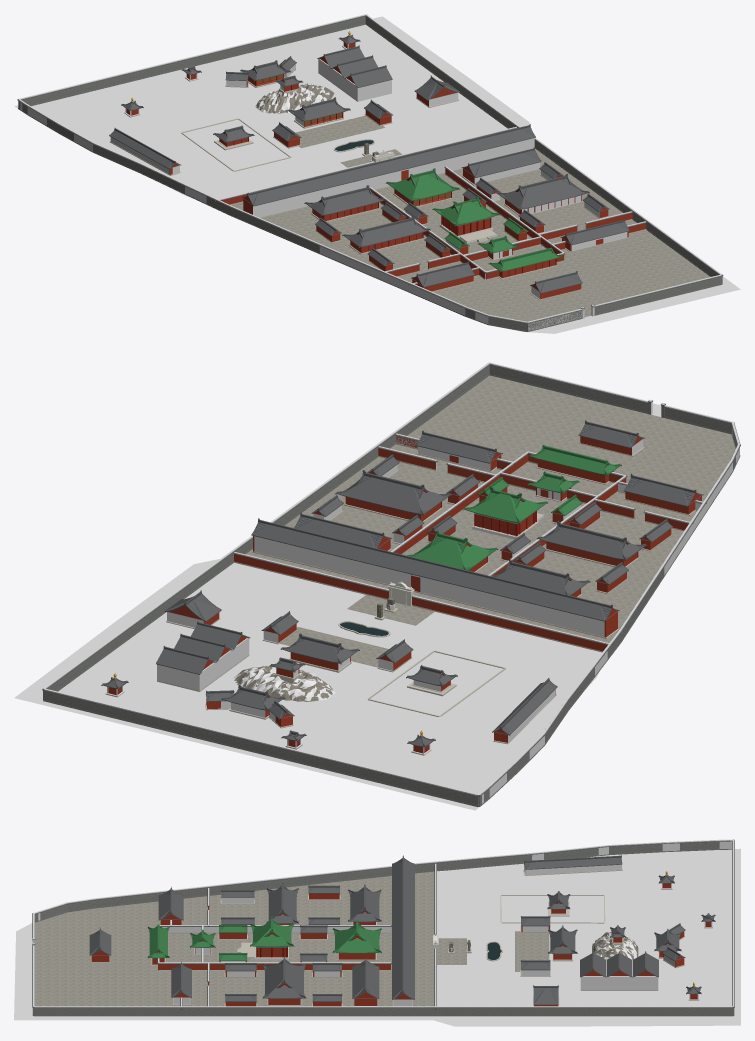
File: gongwangfu.glb
The picture shows the model from 3 angles, top to bottom: view 1: azimuth 30°, elevation 25°; view 2: azimuth 150°, elevation 25°; view 3: azimuth 270°, elevation 25°; orthographic projection. The views are drawn at different scales.
Visible parts, largest first — view 1: Massing, Mansion, FOOTPRINT_gardenN, FOOTPRINT_gardenS, FOOTPRINT_mansion, COL_h14, COL_b35, COL_b36, COL_b46, COL_h6, COLMESH_m0, COL_h7; view 2: Massing, Mansion, FOOTPRINT_gardenN, FOOTPRINT_gardenS, COL_b35, COL_b36, COL_b46, COLMESH_m0, COL_h6, COL_h14, COL_h7; view 3: Massing, Mansion, FOOTPRINT_gardenN, FOOTPRINT_gardenS, FOOTPRINT_mansion, COL_h6, COL_b46, COL_h18, COL_h4, COL_h14, COL_h7, COLMESH_m0 (+1 smaller).
Part boxes in pixels (<box>): Massing: <box>22,16,722,331</box>; Mansion: <box>17,15,723,331</box>; FOOTPRINT_gardenN: <box>14,16,465,157</box>; FOOTPRINT_gardenS: <box>130,76,529,199</box>; FOOTPRINT_mansion: <box>495,276,740,333</box>; COL_h14: <box>230,205,465,315</box>; COL_b35: <box>253,170,401,217</box>; COL_b36: <box>408,138,534,177</box>; COL_b46: <box>318,59,391,101</box>; COL_h6: <box>366,14,721,274</box>; COLMESH_m0: <box>255,83,329,113</box>; COL_h7: <box>19,14,365,99</box>; Massing: <box>43,365,737,806</box>; Mansion: <box>42,364,740,806</box>; FOOTPRINT_gardenN: <box>14,622,546,810</box>; FOOTPRINT_gardenS: <box>115,559,601,727</box>; COL_b35: <box>420,576,604,636</box>; COL_b36: <box>254,536,410,587</box>; COL_b46: <box>157,638,249,690</box>; COLMESH_m0: <box>234,665,335,700</box>; COL_h6: <box>43,362,489,688</box>; COL_h14: <box>619,460,732,630</box>; COL_h7: <box>44,688,478,795</box>; Massing: <box>33,842,734,1015</box>; Mansion: <box>32,839,734,1016</box>; FOOTPRINT_gardenN: <box>579,848,740,1026</box>; FOOTPRINT_gardenS: <box>433,863,579,1026</box>; FOOTPRINT_mansion: <box>14,923,433,1020</box>; COL_h6: <box>33,1006,733,1007</box>; COL_b46: <box>580,960,658,990</box>; COL_h18: <box>159,925,390,932</box>; COL_h4: <box>524,864,621,875</box>; COL_h14: <box>95,865,391,899</box>; COL_h7: <box>732,840,734,1006</box>; COLMESH_m0: <box>592,932,637,959</box>.
Bounding box in the file's own units: 202 × 15.85 × 349.
Materials: 15 (7 with a texture image).
